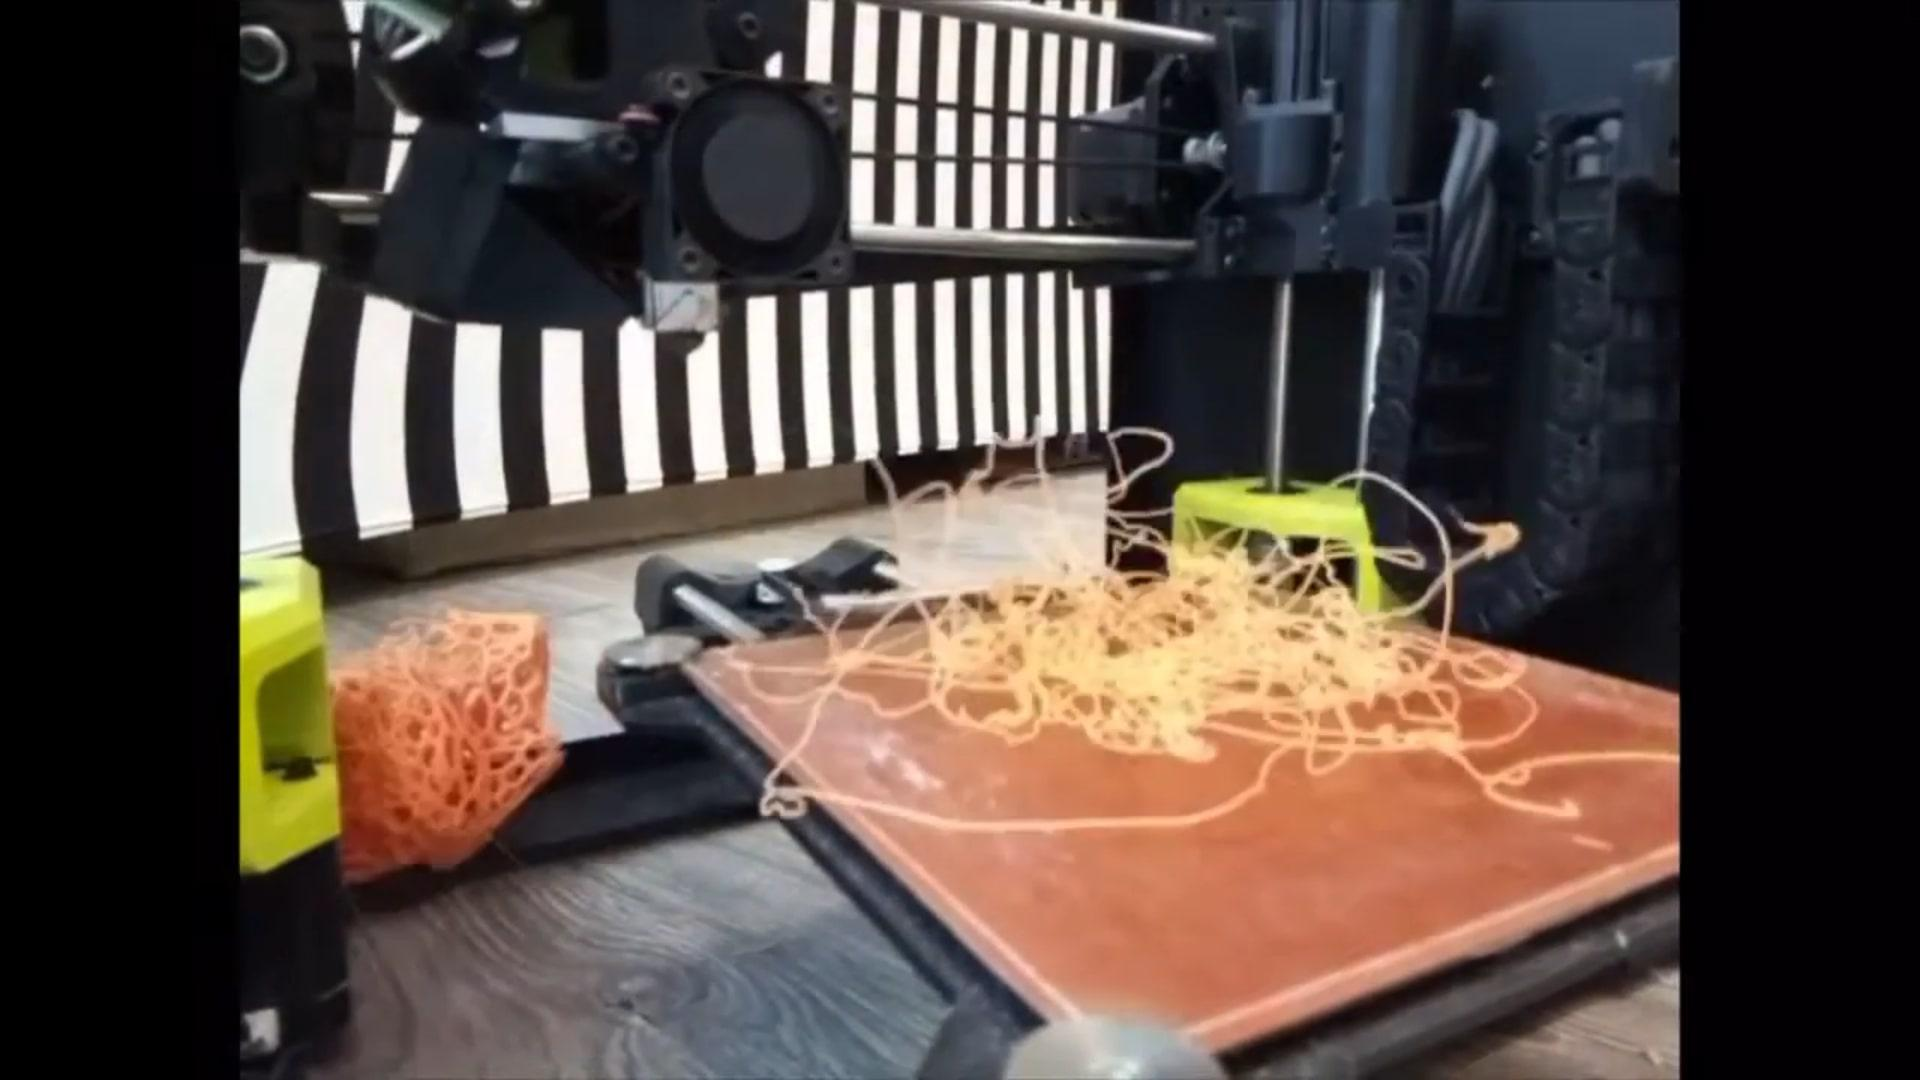Printing-Artifact: (860, 444, 1544, 793)
